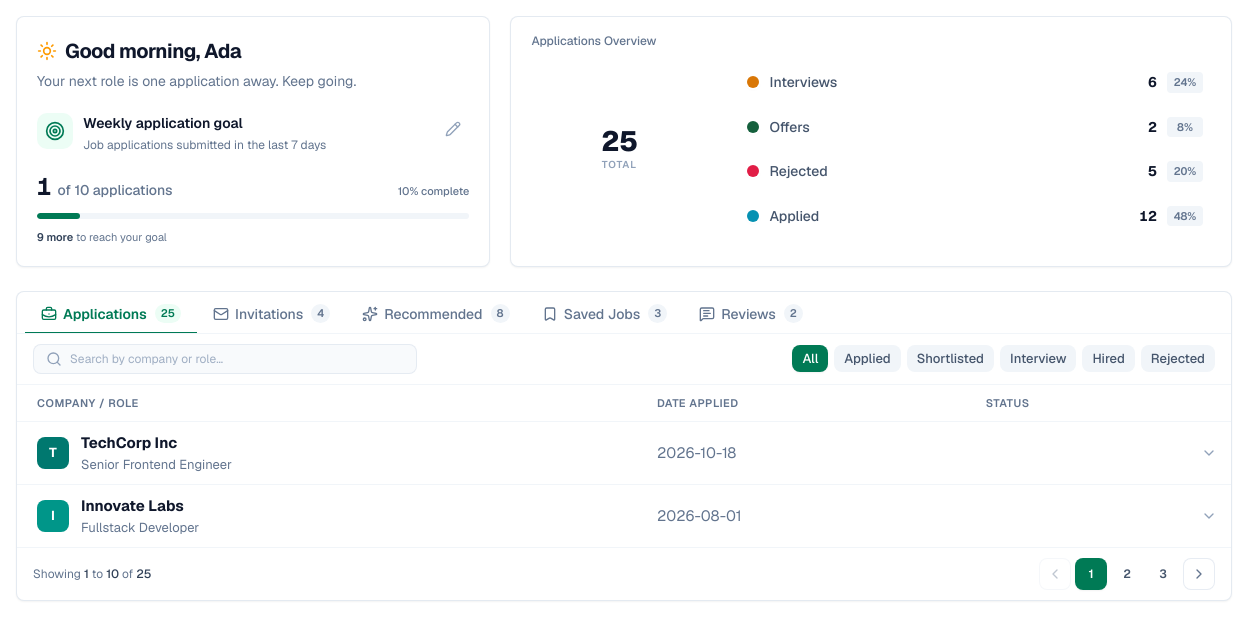
TalentDashboard Component › handles search input and clear button
Step 1. Type "Frontend" into the field with placeholder "Search by company or role…" → (237, 358), box [70,350,404,366]
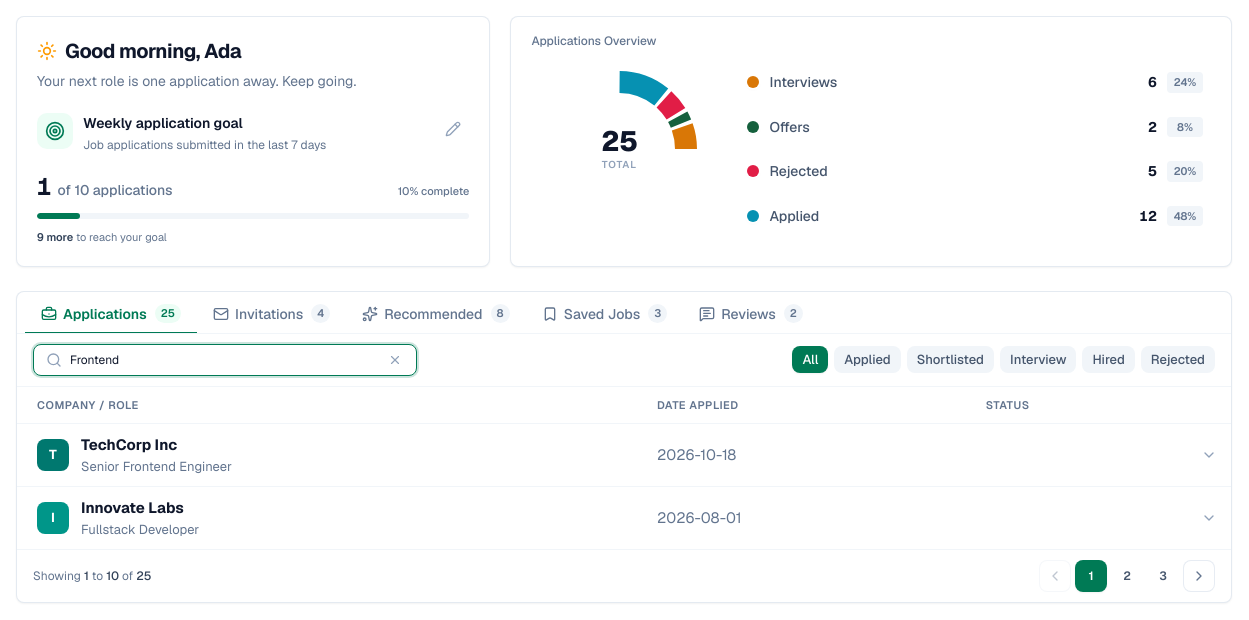
Expected: the button named "Clear search" is shown
Step 2. Click the button named "Clear search" → (395, 360), box [386,350,404,368]
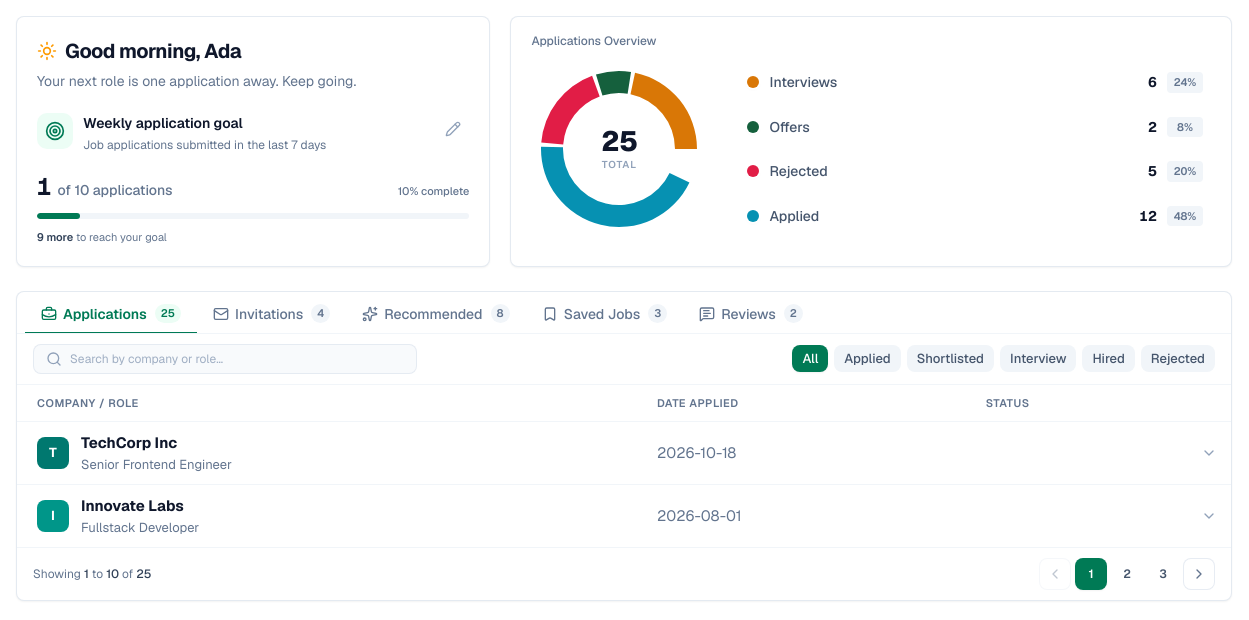
Expected: the field with placeholder "Search by company or role…" is empty, [70,350,404,366]
